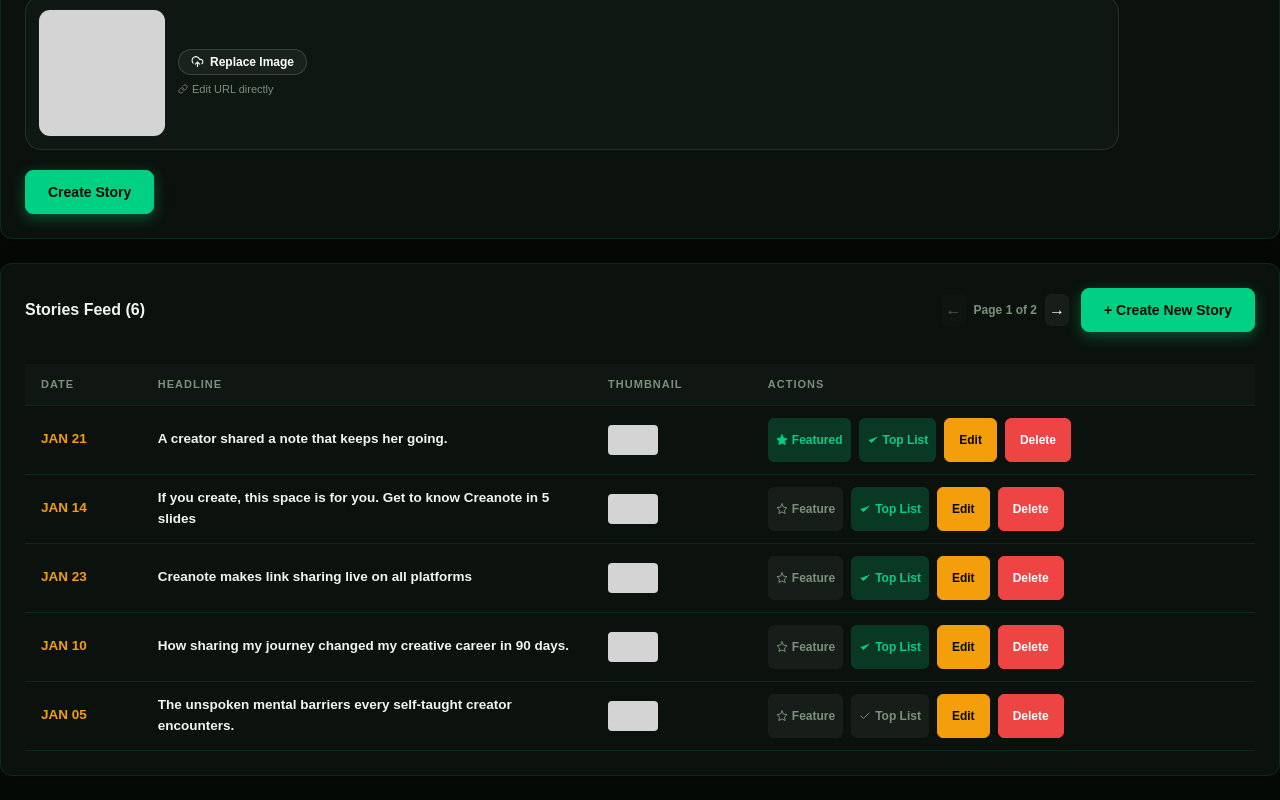
Scenario: Milestone 5: Admin CMS Dashboard Components › PostsManager displays stories and toggles edit state
(page scrolled)
Click the button with test id "edit-post-btn-0" at (971, 440), box [944,418,997,462]
(page scrolled)
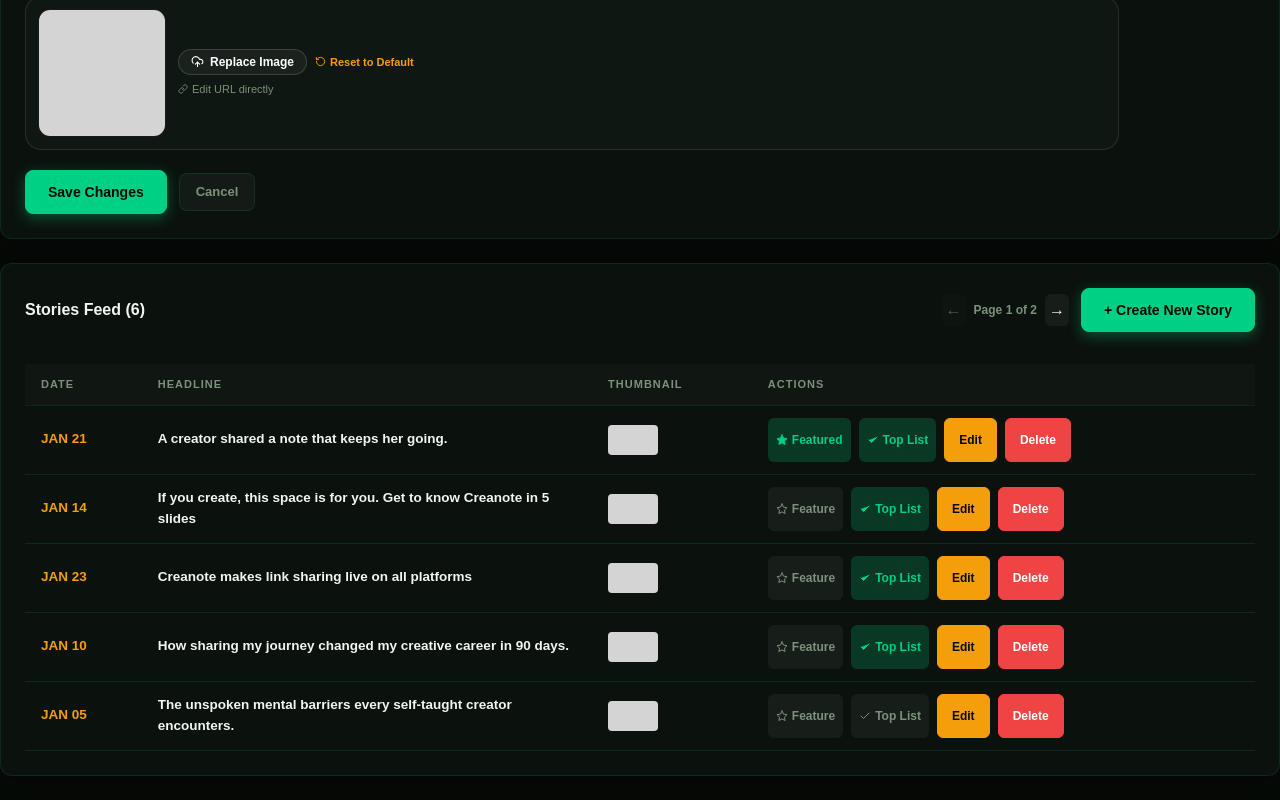
Expected: the button "Save Changes" is shown, [25,170,167,214]
